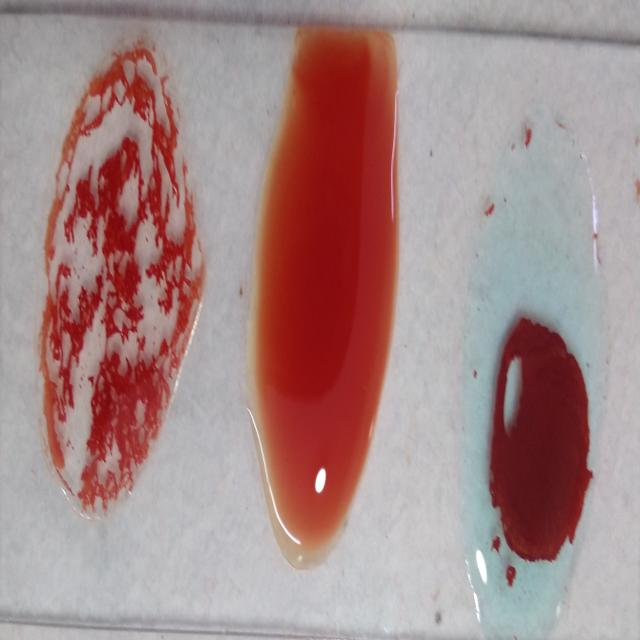A: (472, 133, 607, 632)
D: (43, 41, 193, 506)
